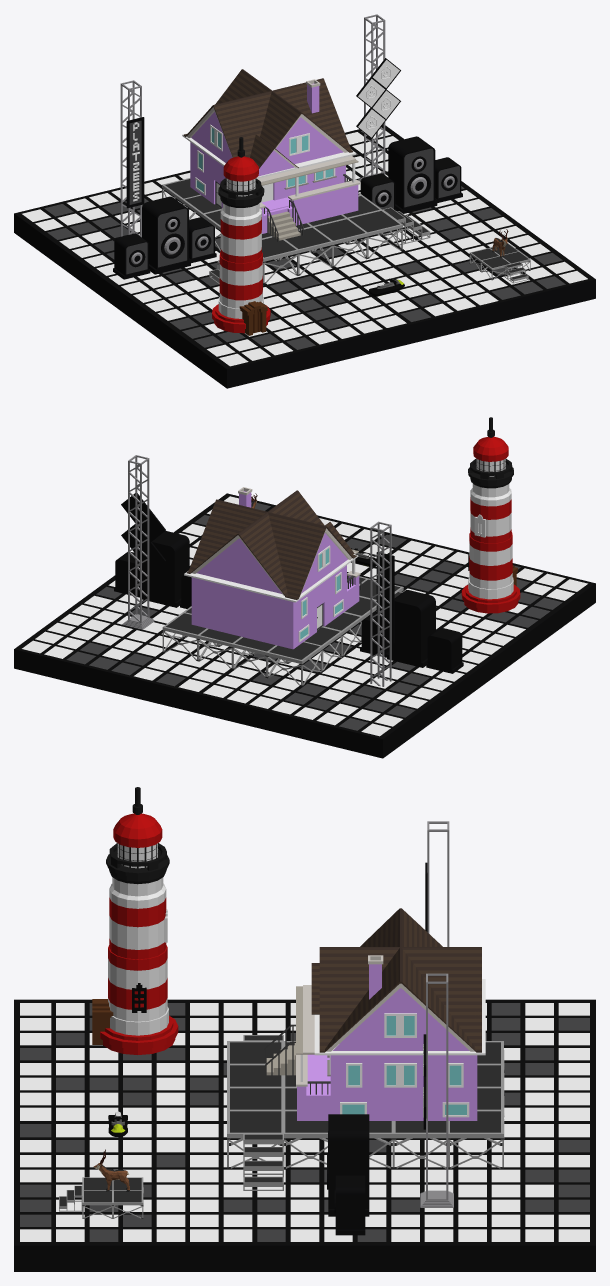
The picture shows the model from 3 angles, top to bottom: view 1: azimuth 30°, elevation 25°; view 2: azimuth 150°, elevation 25°; view 3: azimuth 270°, elevation 25°; orthographic projection. The views are drawn at different scales.
Visible parts, largest first — view 1: Cube.008, Cube.391, OBJRANDOM_LIGHTHOUSE; view 2: Cube.008, Cube.391, OBJRANDOM_LIGHTHOUSE; view 3: Cube.008, Cube.391, OBJRANDOM_LIGHTHOUSE.
Boxes of the visible parts, left/top/right/bottom form: Cube.008: left=14, top=14, right=595, bottom=388; Cube.391: left=182, top=69, right=360, bottom=241; OBJRANDOM_LIGHTHOUSE: left=212, top=137, right=270, bottom=335; Cube.008: left=14, top=455, right=595, bottom=758; Cube.391: left=184, top=487, right=361, bottom=649; OBJRANDOM_LIGHTHOUSE: left=461, top=417, right=520, bottom=613; Cube.008: left=14, top=821, right=595, bottom=1271; Cube.391: left=264, top=908, right=485, bottom=1120; OBJRANDOM_LIGHTHOUSE: left=92, top=787, right=178, bottom=1054.
Bounding box in the file's own units: 4000 × 2183 × 4000.
Materials: 43 (1 with a texture image).
